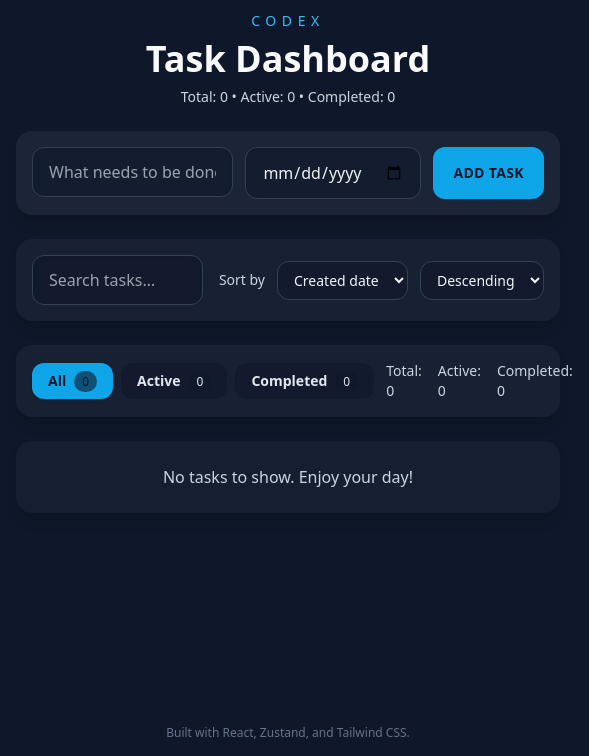
it: App task flow › displays the entered due date for plain date inputs in a negative offset timezone
This screenshot has width=589, height=756.
In the field labelled "What needs to be done?": (133, 172) [32,147,233,197], type "Task with due date"
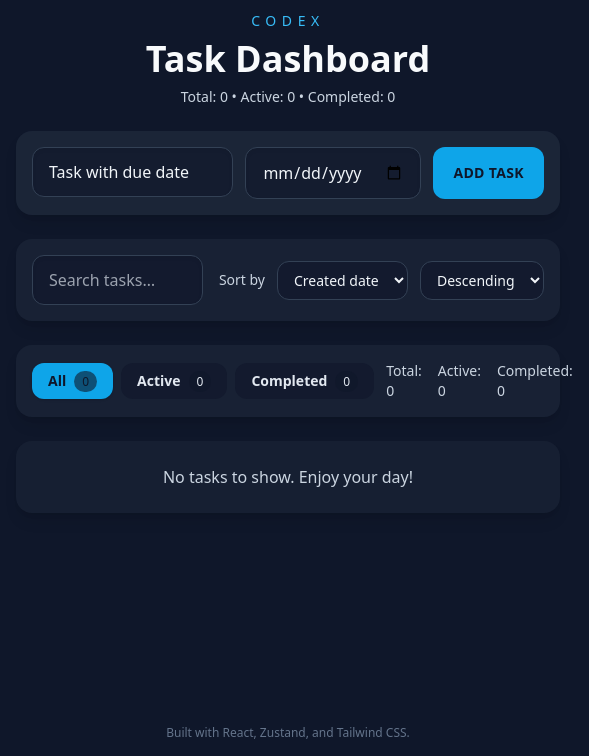
In the date field named "Due date": (333, 173) [245,147,421,199], type "2024-04-10"
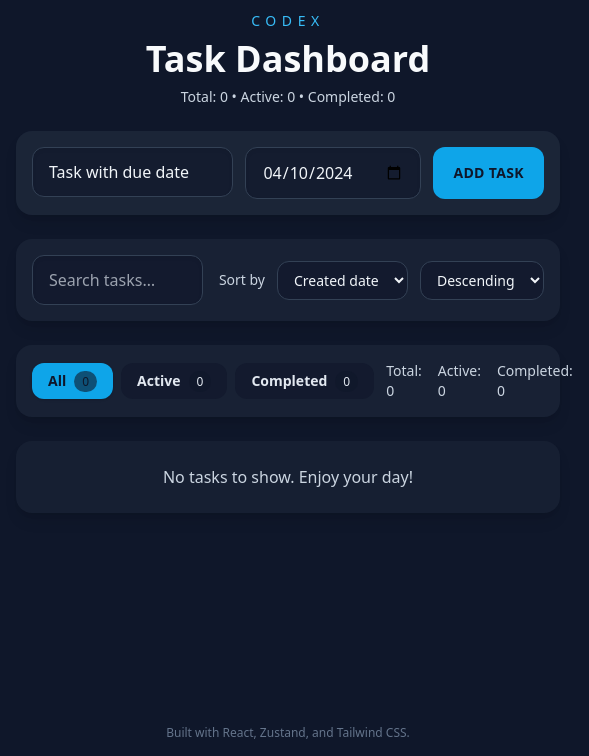
Click the button "Add task": (489, 173) [433,147,544,199]
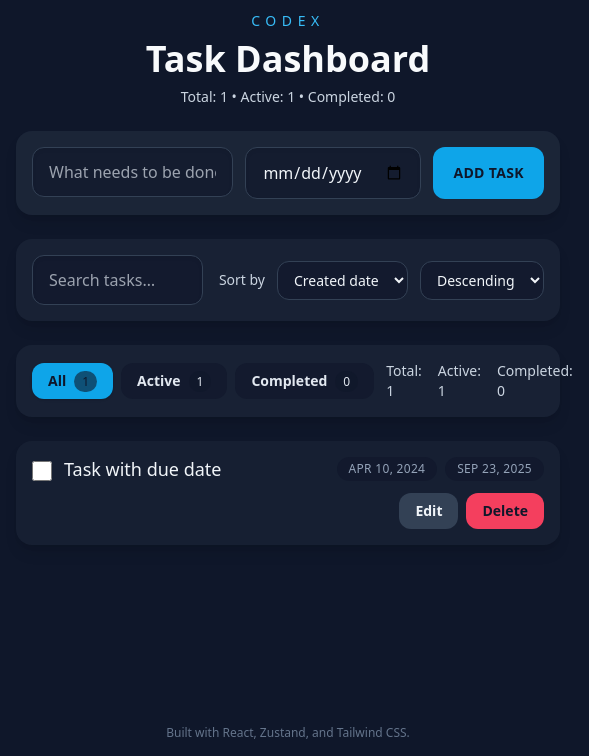
Now the text "Task with due date" is shown, box [64,458,222,480]
